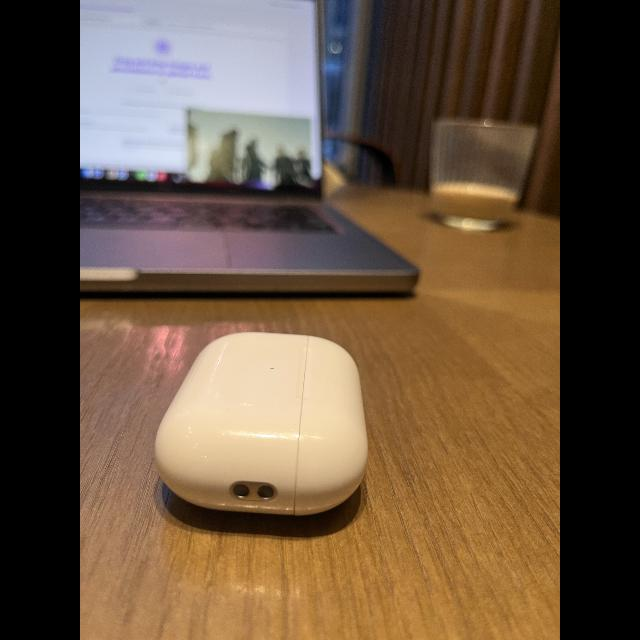AirPods Pro: (144, 322, 378, 538)
